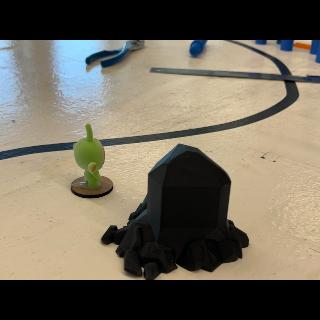teletubby: (73, 124, 105, 188)
